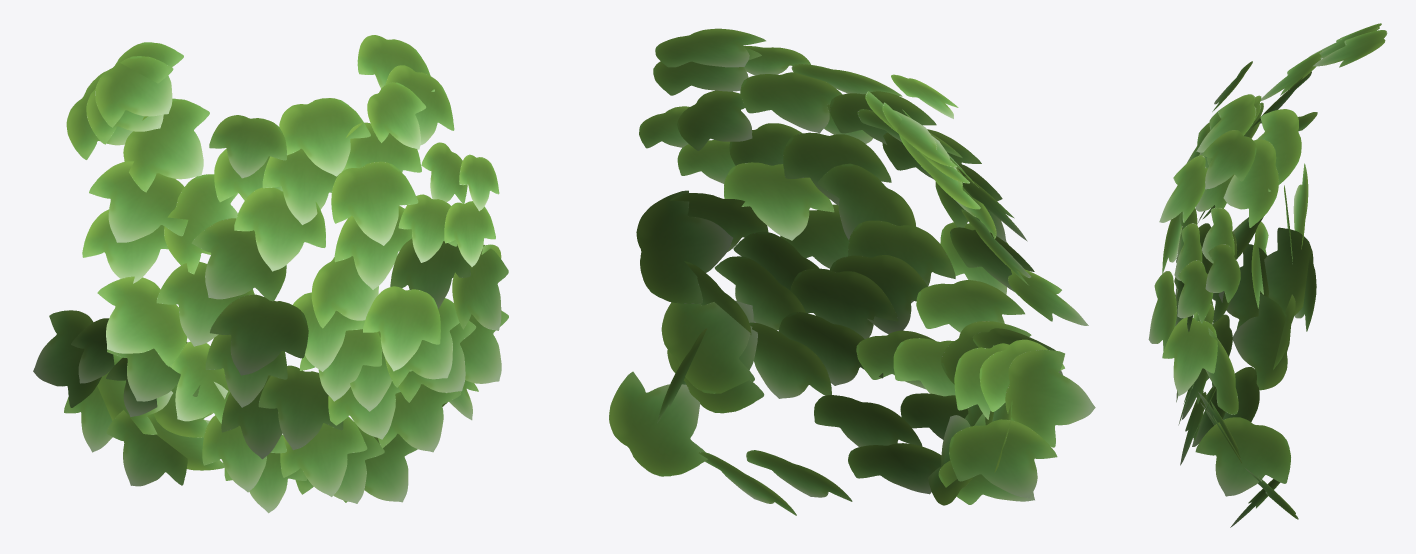
The model's file is Bush12.fbx.
The picture shows the model from 3 angles, left to right: view 1: azimuth 30°, elevation 25°; view 2: azimuth 150°, elevation 25°; view 3: azimuth 270°, elevation 25°; orthographic projection. The views are drawn at different scales.
Parts seen in each view (by area): view 1: Plane.2709; view 2: Plane.2709; view 3: Plane.2709.
Boxes of the visible parts, x1=… form: Plane.2709: x1=33, y1=35, x2=508, y2=513; Plane.2709: x1=609, y1=28, x2=1095, y2=515; Plane.2709: x1=1148, y1=23, x2=1387, y2=527.
Bounding box in the file's own units: 184 × 181 × 93.34.
1 material, 1 textured.
